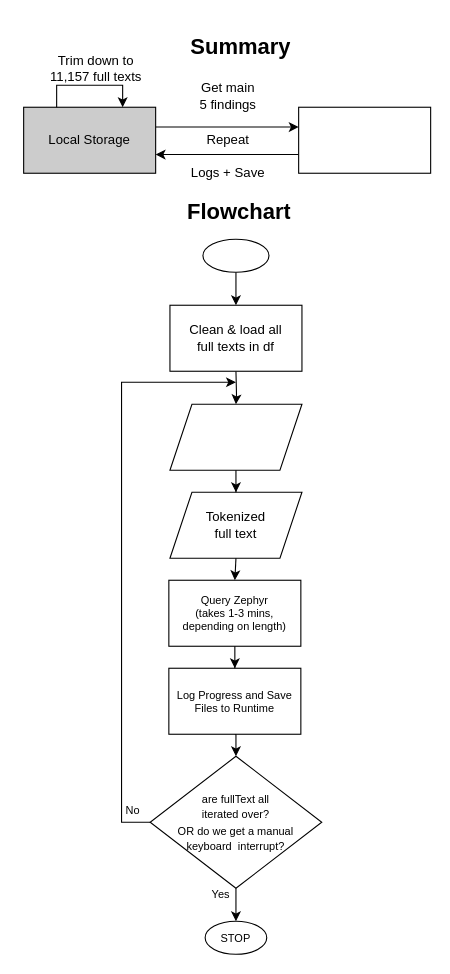
Image size: 450x974. Some labels were removed from this diagram. Each missing label, with the centre of its shape:
"PMC_INDEX" goes at point (235, 436).
"Start" goes at point (235, 255).
"Zephyr LLM" goes at point (364, 139).
